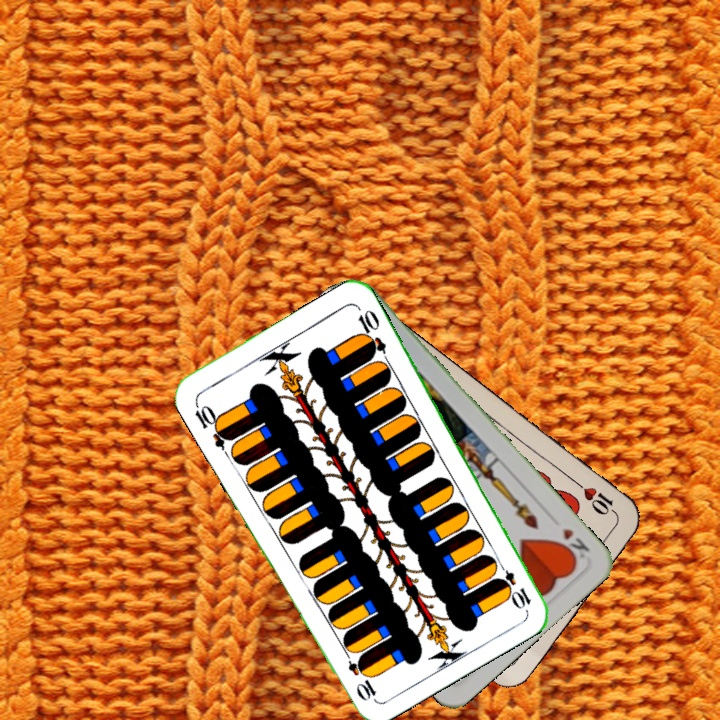E10: (190, 398, 235, 451), (492, 557, 534, 611)
H10: (571, 477, 621, 519)
HK: (554, 524, 593, 564)
